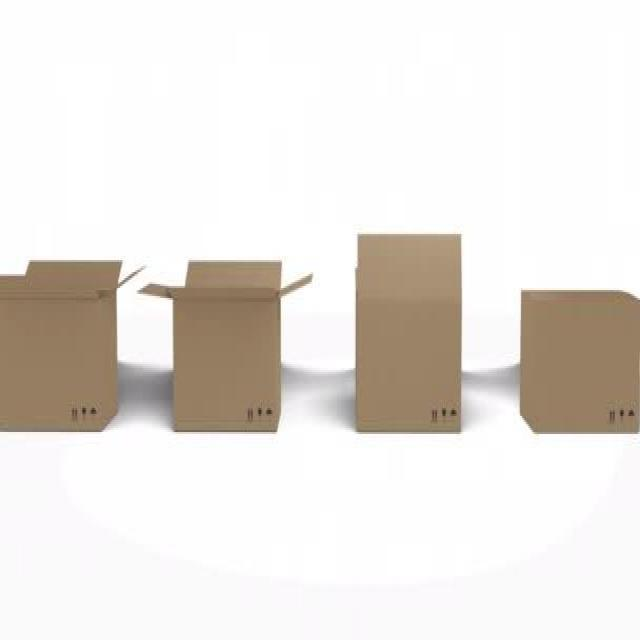box: (137, 244, 300, 442), (344, 233, 470, 452), (0, 242, 124, 442), (508, 276, 640, 444)
